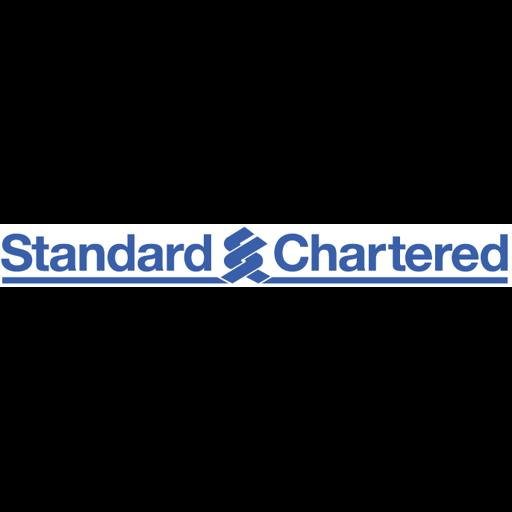Standard Chartered Bank: (0, 224, 512, 287)
